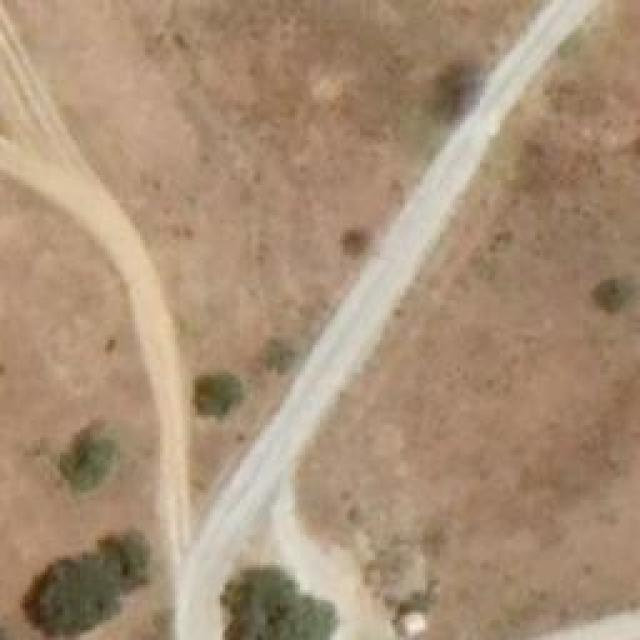Tree: (218, 570, 328, 640), (28, 560, 113, 633), (57, 428, 115, 491), (588, 263, 638, 318), (108, 530, 151, 593), (192, 370, 240, 415), (265, 340, 293, 375)
